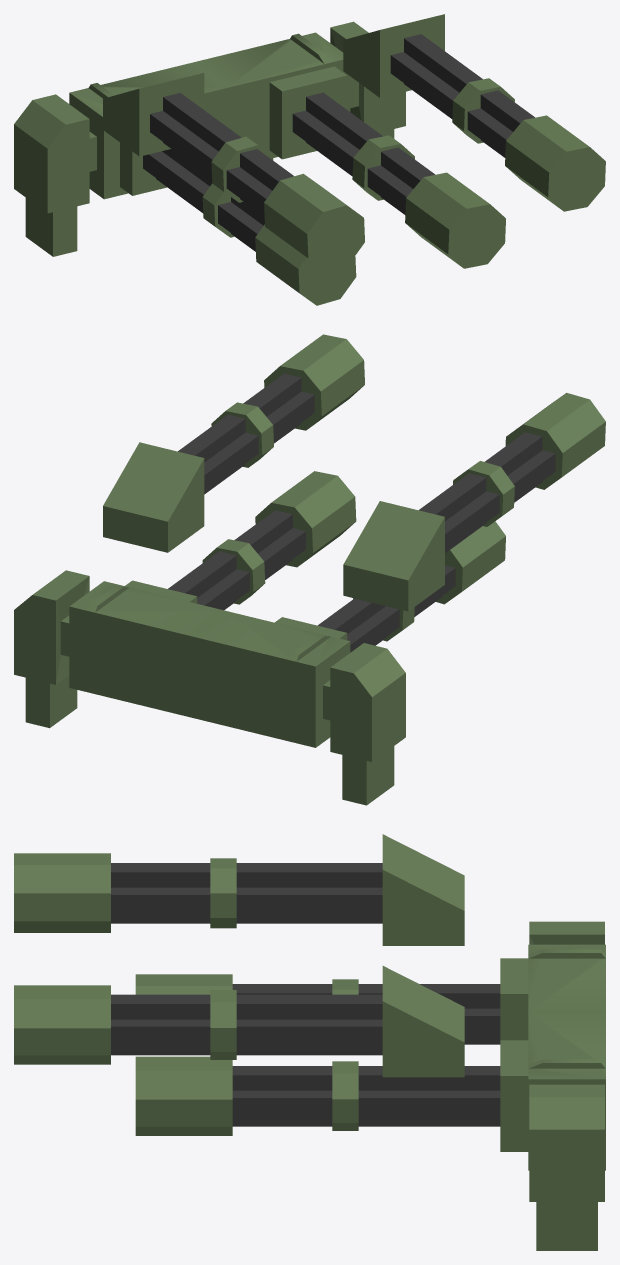
The model's file is Assault Cannon.FBX.
3 views of the same model, one above another, from view 1: azimuth 30°, elevation 25°; view 2: azimuth 150°, elevation 25°; view 3: azimuth 270°, elevation 25° (orthographic). The views are drawn at different scales.
Visible parts, largest first — view 1: Assault Cannon, Assault Top Left, Assault Top Right, Assault Bottom Left, Assault Bottom Right; view 2: Assault Cannon, Assault Top Left, Assault Top Right, Assault Bottom Left, Assault Bottom Right; view 3: Assault Top Left, Assault Top Right, Assault Cannon, Assault Bottom Left, Assault Bottom Right.
Part boxes in pixels (x1=…): Assault Cannon: x1=14, y1=21, x2=405, y2=256; Assault Top Left: x1=343, y1=14, x2=605, y2=211; Assault Top Right: x1=103, y1=73, x2=364, y2=270; Assault Bottom Left: x1=292, y1=92, x2=505, y2=268; Assault Bottom Right: x1=143, y1=149, x2=356, y2=305; Assault Cannon: x1=14, y1=570, x2=405, y2=805; Assault Top Left: x1=103, y1=334, x2=364, y2=552; Assault Top Right: x1=343, y1=392, x2=605, y2=611; Assault Bottom Left: x1=168, y1=471, x2=356, y2=610; Assault Bottom Right: x1=318, y1=521, x2=505, y2=652; Assault Top Left: x1=14, y1=966, x2=464, y2=1077; Assault Top Right: x1=14, y1=834, x2=464, y2=945; Assault Cannon: x1=500, y1=921, x2=605, y2=1250; Assault Bottom Left: x1=135, y1=1056, x2=500, y2=1135; Assault Bottom Right: x1=135, y1=974, x2=500, y2=1044.
Size of the model in its own units: 104 by 59.48 by 133.
